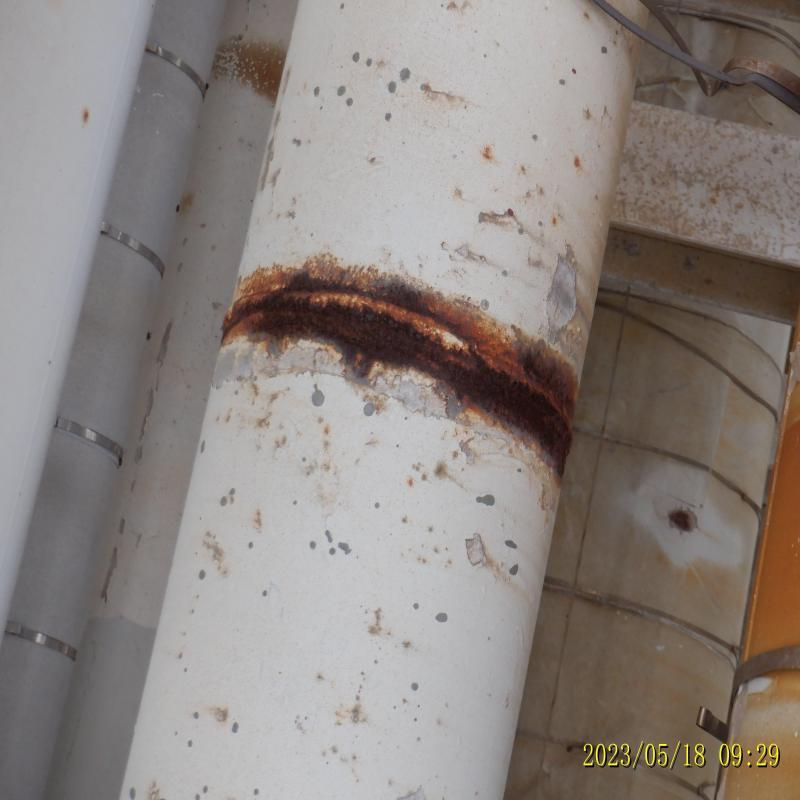corrosion: (238, 268, 417, 342), (460, 338, 580, 426)
